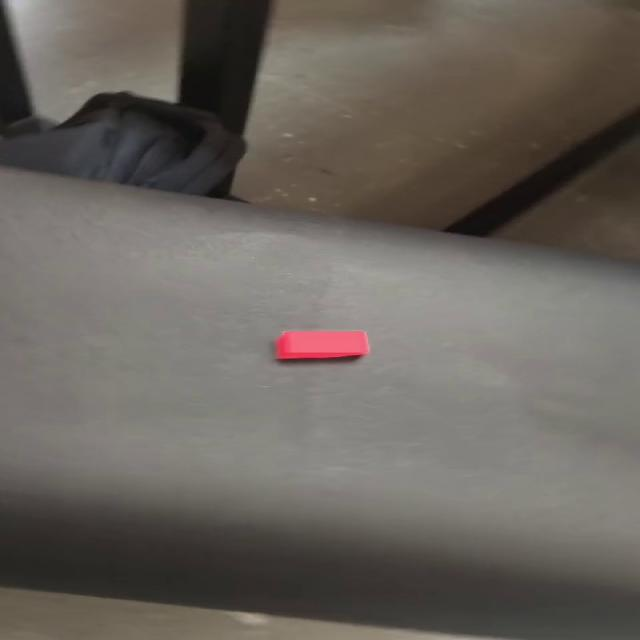red block: (274, 330, 369, 360)
